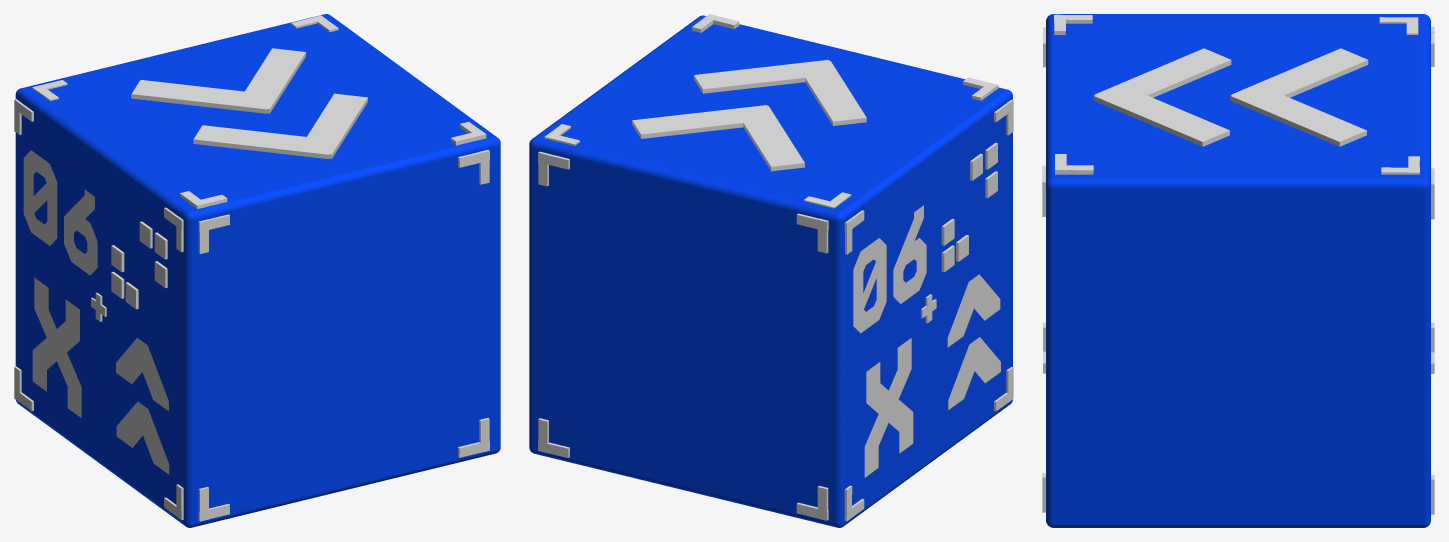
3 views of the same model, side by side, from view 1: azimuth 30°, elevation 25°; view 2: azimuth 150°, elevation 25°; view 3: azimuth 270°, elevation 25° (orthographic). The views are drawn at different scales.
Parts seen in each view (by area): view 1: Cube.001, Cube.005, Text.001, Cube, Cube.004, Cube.003, Cube.002, Text, Text.049, Text.060, Text.041, Cube.006 (+1 smaller); view 2: Cube.001, Cube.005, Text.001, Cube.002, Cube.003, Cube, Cube.004, Text, Text.060, Text.049, Text.041, Cube.009 (+1 smaller); view 3: Cube.001, Cube.005, Cube.003, Cube.002, Cube, Cube.004.
Boxes of the visible parts, box(x1,y1,x2,y2) form: Cube.001: box(15, 14, 500, 527); Cube.005: box(14, 15, 489, 521); Text.001: box(23, 150, 97, 275); Cube: box(131, 80, 269, 113); Cube.004: box(193, 125, 330, 158); Cube.003: box(298, 93, 367, 158); Cube.002: box(245, 48, 305, 113); Text: box(34, 277, 81, 417); Text.049: box(116, 401, 169, 474); Text.060: box(116, 338, 168, 411); Text.041: box(32, 299, 79, 391); Cube.006: box(139, 221, 167, 288); Cube.001: box(529, 15, 1012, 527); Cube.005: box(538, 14, 1013, 521); Text.001: box(853, 205, 926, 333); Cube.002: box(632, 105, 774, 138); Cube.003: box(694, 59, 829, 93); Cube: box(738, 106, 804, 171); Cube.004: box(802, 61, 866, 125); Text: box(866, 362, 913, 453); Text.060: box(947, 274, 1000, 347); Text.049: box(948, 337, 1000, 409); Text.041: box(864, 338, 911, 477); Cube.009: box(941, 218, 968, 272); Cube.001: box(1046, 14, 1430, 527); Cube.005: box(1042, 14, 1434, 514); Cube.003: box(1093, 87, 1229, 146); Cube.002: box(1230, 90, 1366, 146); Cube: box(1231, 48, 1368, 102); Cube.004: box(1094, 48, 1231, 97).
Size of the model in its own units: 210 by 202 by 203.
